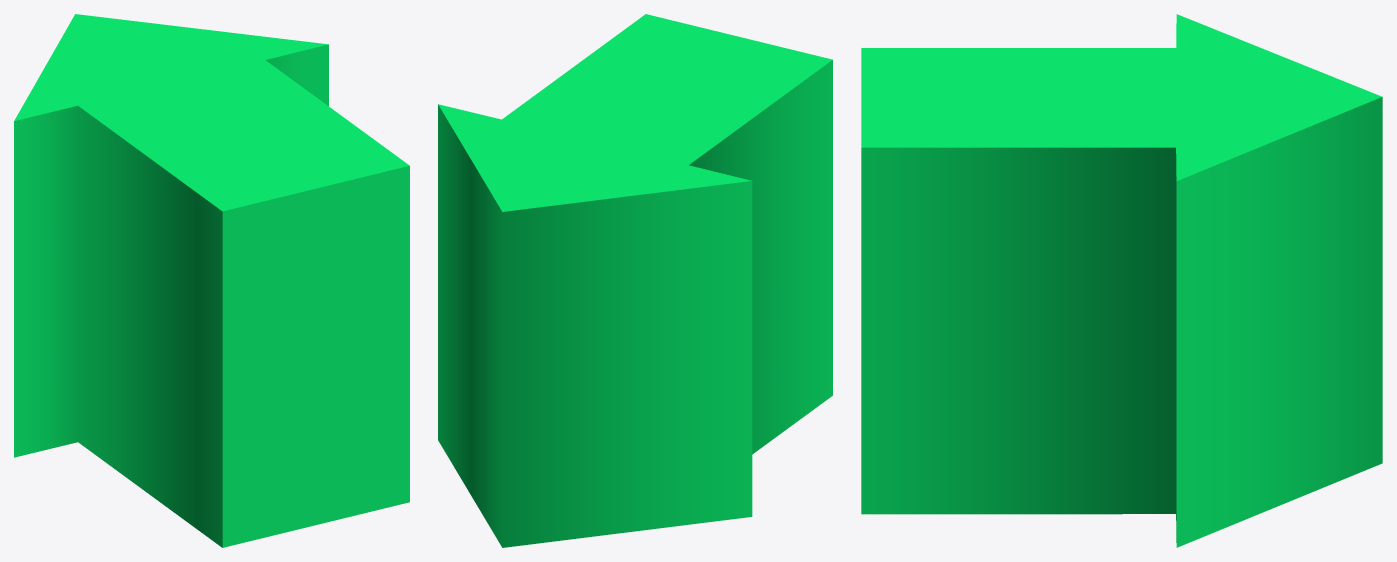
The model's file is arrow.dae.
The picture shows the model from 3 angles, left to right: view 1: azimuth 30°, elevation 25°; view 2: azimuth 150°, elevation 25°; view 3: azimuth 270°, elevation 25°; orthographic projection. The views are drawn at different scales.
Visible parts, largest first — view 1: uploads_files_1842272_arrow; view 2: uploads_files_1842272_arrow; view 3: uploads_files_1842272_arrow.
Part boxes in pixels (left/top/right/bottom): uploads_files_1842272_arrow: left=14, top=14, right=409, bottom=547; uploads_files_1842272_arrow: left=438, top=14, right=832, bottom=547; uploads_files_1842272_arrow: left=861, top=14, right=1382, bottom=547.
Size of the model in its own units: 1.98 by 2.61 by 2.03.
